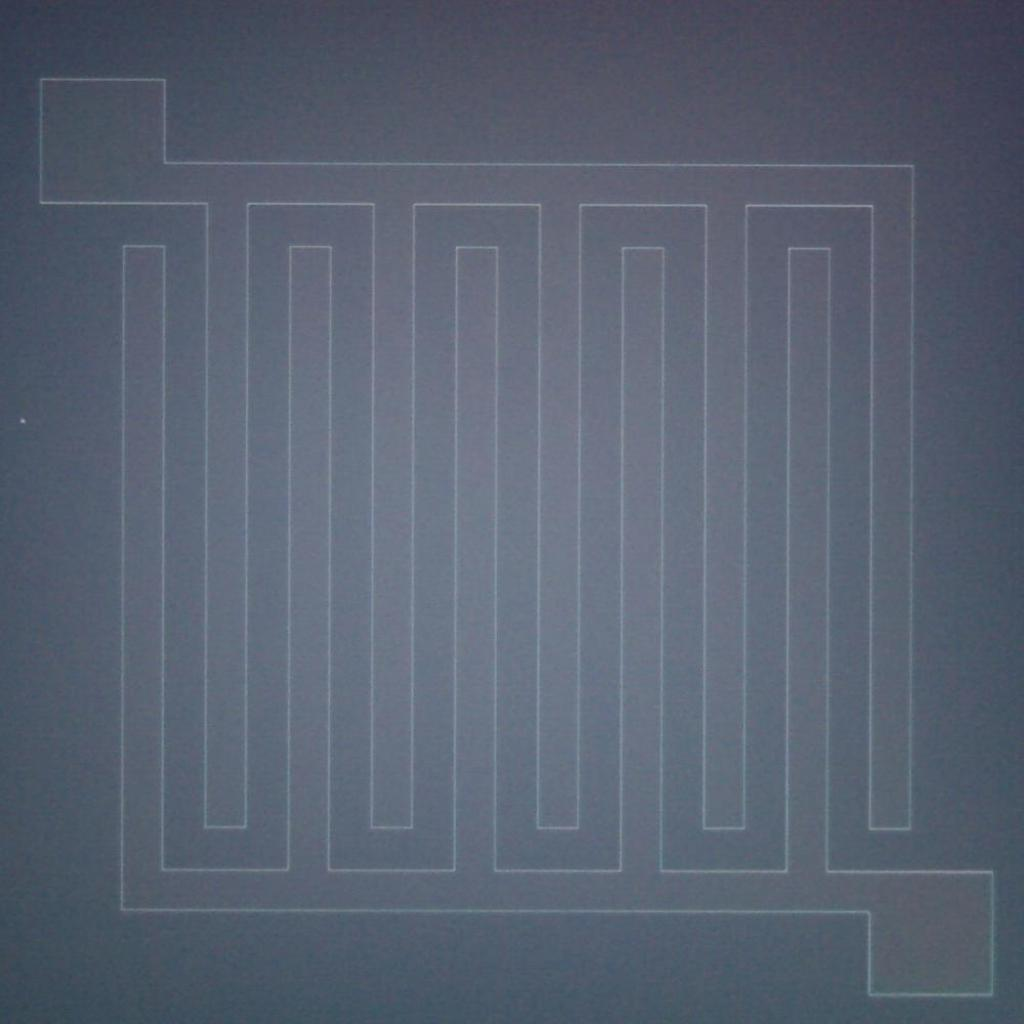dot: (20, 419, 24, 423)
